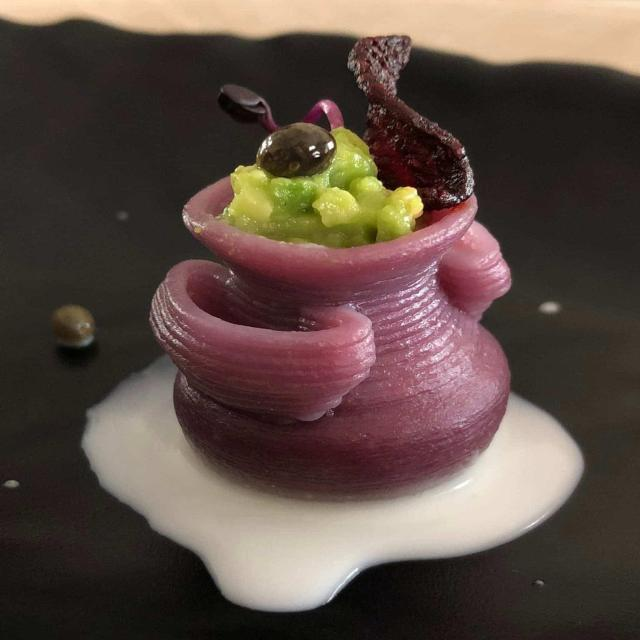Without deffect: (139, 18, 527, 513)
